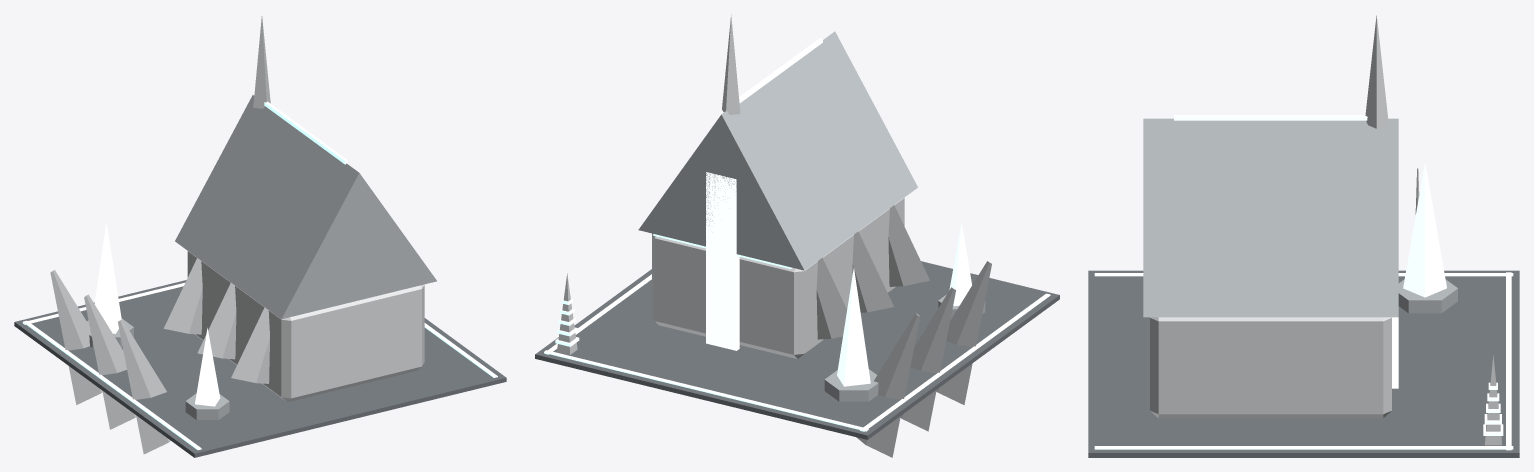
The model's file is zone_low_5_t5.glb.
3 views of the same model, side by side, from view 1: azimuth 30°, elevation 25°; view 2: azimuth 150°, elevation 25°; view 3: azimuth 270°, elevation 25° (orthographic). The views are drawn at different scales.
Visible parts, largest first — view 1: zone_low_5_t5, detail; view 2: zone_low_5_t5, detail; view 3: zone_low_5_t5, detail.
Boxes of the visible parts, x1,y1,x2,y2 form: zone_low_5_t5: (14,16,506,457); detail: (22,101,497,450); zone_low_5_t5: (535,15,1059,457); detail: (544,38,1050,431); zone_low_5_t5: (1088,15,1519,457); detail: (1094,115,1513,450).
Bounding box in the file's own units: 20.02 × 21.78 × 19.6.
